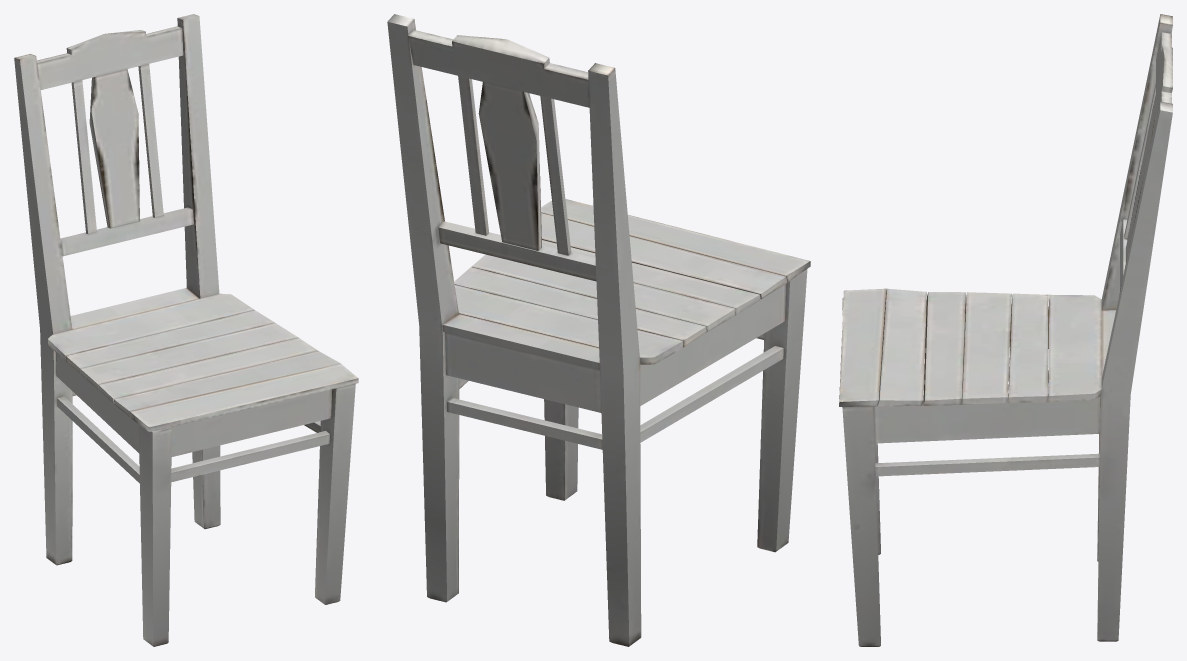
The model's file is chair.glb.
The picture shows the model from 3 angles, left to right: view 1: azimuth 30°, elevation 25°; view 2: azimuth 150°, elevation 25°; view 3: azimuth 270°, elevation 25°; orthographic projection. The views are drawn at different scales.
Visible parts, largest first — view 1: painted_wooden_chair_01; view 2: painted_wooden_chair_01; view 3: painted_wooden_chair_01.
Part boxes in pixels (x1,y1,x2,y2): painted_wooden_chair_01: (14, 14, 358, 646); painted_wooden_chair_01: (387, 14, 810, 646); painted_wooden_chair_01: (839, 14, 1172, 646).
Bounding box in the file's own units: 0.4238 × 0.9558 × 0.5357.
1 material, 1 textured.
